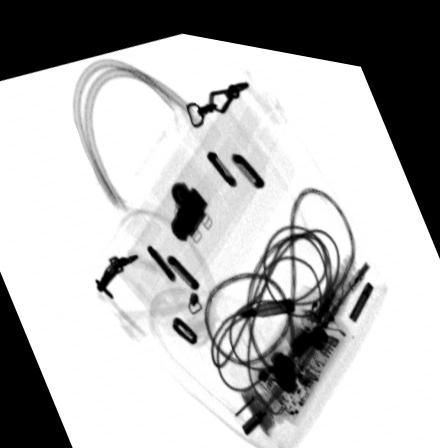Bullet: (235, 286, 294, 309)
